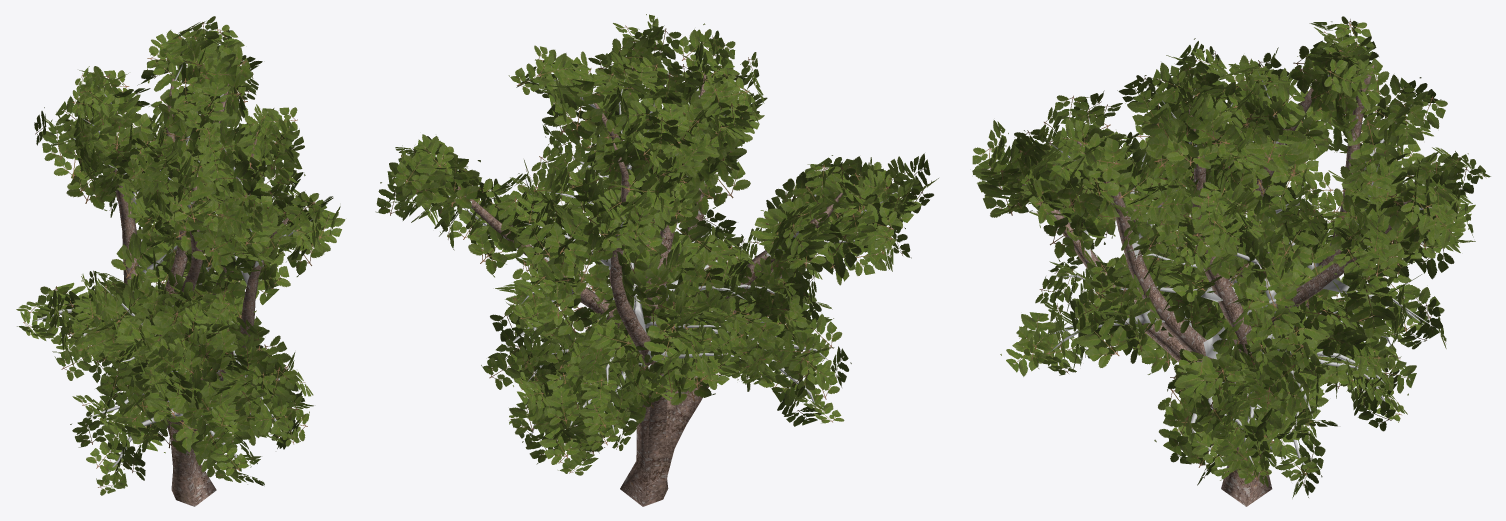
The model's file is tree_alive.obj.
The picture shows the model from 3 angles, left to right: view 1: azimuth 30°, elevation 25°; view 2: azimuth 150°, elevation 25°; view 3: azimuth 270°, elevation 25°; orthographic projection. The views are drawn at different scales.
Parts seen in each view (by area): view 1: branch01, bark05, bark02; view 2: branch01, bark05, bark02; view 3: branch01, bark05, bark02.
Boxes of the visible parts, <box> form: branch01: <box>16,16,345,495</box>; bark05: <box>105,78,288,506</box>; bark02: <box>32,62,312,472</box>; branch01: <box>375,14,938,475</box>; bark05: <box>455,66,842,506</box>; bark02: <box>448,38,911,456</box>; branch01: <box>972,16,1490,498</box>; bark05: <box>1018,65,1411,506</box>; bark02: <box>1002,37,1433,473</box>.
Size of the model in its own units: 1866 by 2365 by 2340.
